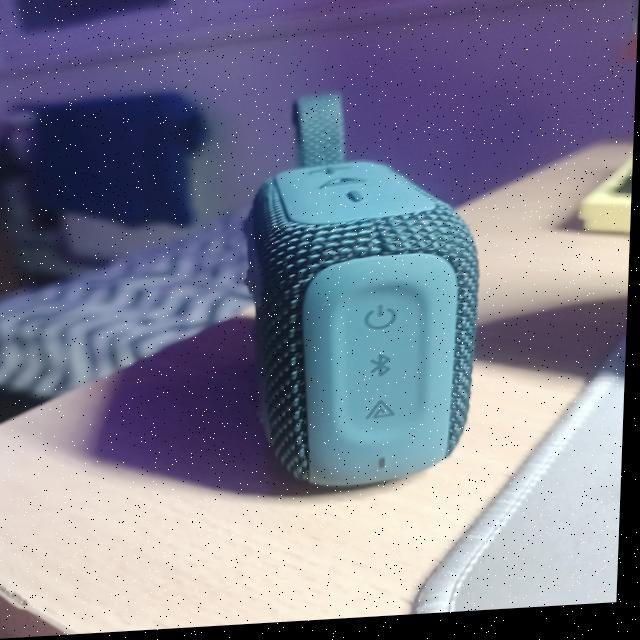column JBL: (247, 99, 481, 491)
